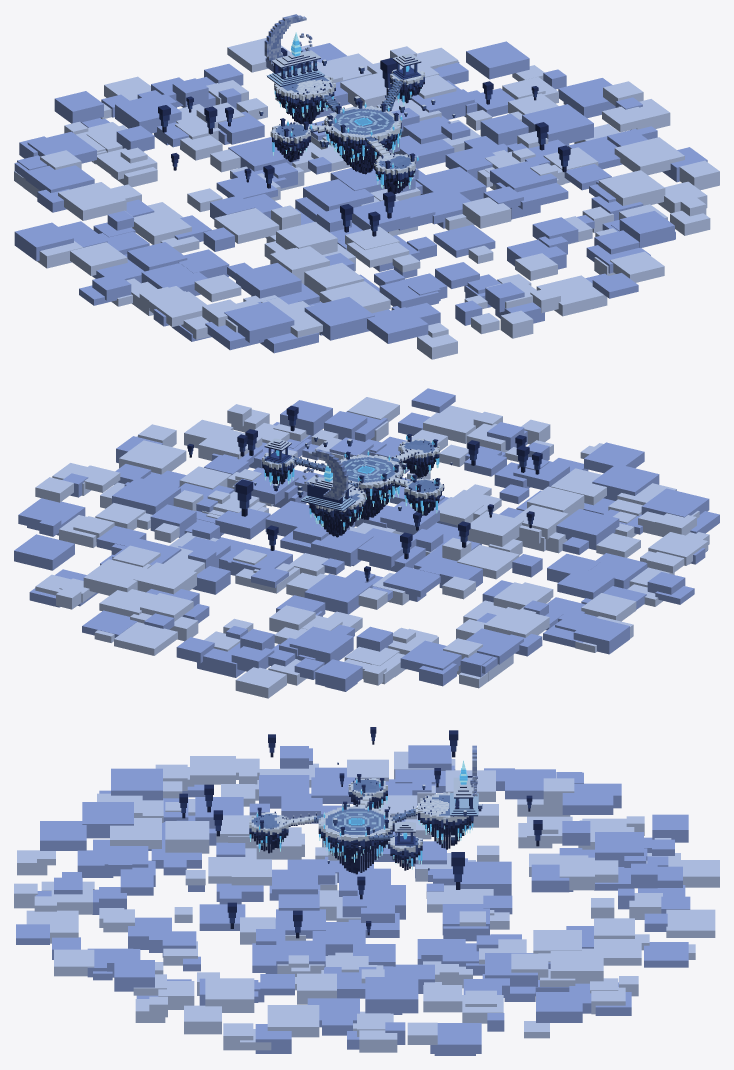
The model's file is ice_temple_map.glb.
3 renders of one model, top to bottom at view 1: azimuth 30°, elevation 25°; view 2: azimuth 150°, elevation 25°; view 3: azimuth 270°, elevation 25°, orthographic. The views are drawn at different scales.
Parts seen in each view (by area): view 1: Clouds, Terrain, Props, Temple, Crystals, Bridges; view 2: Clouds, Terrain, Props, Temple, Crystals, Bridges; view 3: Clouds, Terrain, Props, Crystals, Temple, Bridges.
Boxes of the visible parts, x1=… form: Clouds: x1=14, y1=38, x2=719, y2=359; Terrain: x1=270, y1=67, x2=425, y2=193; Props: x1=158, y1=47, x2=570, y2=236; Temple: x1=264, y1=14, x2=324, y2=86; Crystals: x1=272, y1=32, x2=421, y2=188; Bridges: x1=308, y1=78, x2=402, y2=156; Clouds: x1=14, y1=388, x2=719, y2=698; Terrain: x1=262, y1=438, x2=444, y2=537; Props: x1=187, y1=405, x2=542, y2=581; Temple: x1=300, y1=449, x2=355, y2=511; Crystals: x1=264, y1=434, x2=439, y2=530; Bridges: x1=292, y1=450, x2=416, y2=487; Clouds: x1=14, y1=745, x2=719, y2=1055; Terrain: x1=249, y1=778, x2=473, y2=874; Props: x1=179, y1=727, x2=542, y2=938; Crystals: x1=249, y1=760, x2=473, y2=869; Temple: x1=449, y1=745, x2=478, y2=816; Bridges: x1=285, y1=791, x2=422, y2=841.
Bounding box in the file's own units: 308 × 75.09 × 305.
2 materials, 2 textured.
